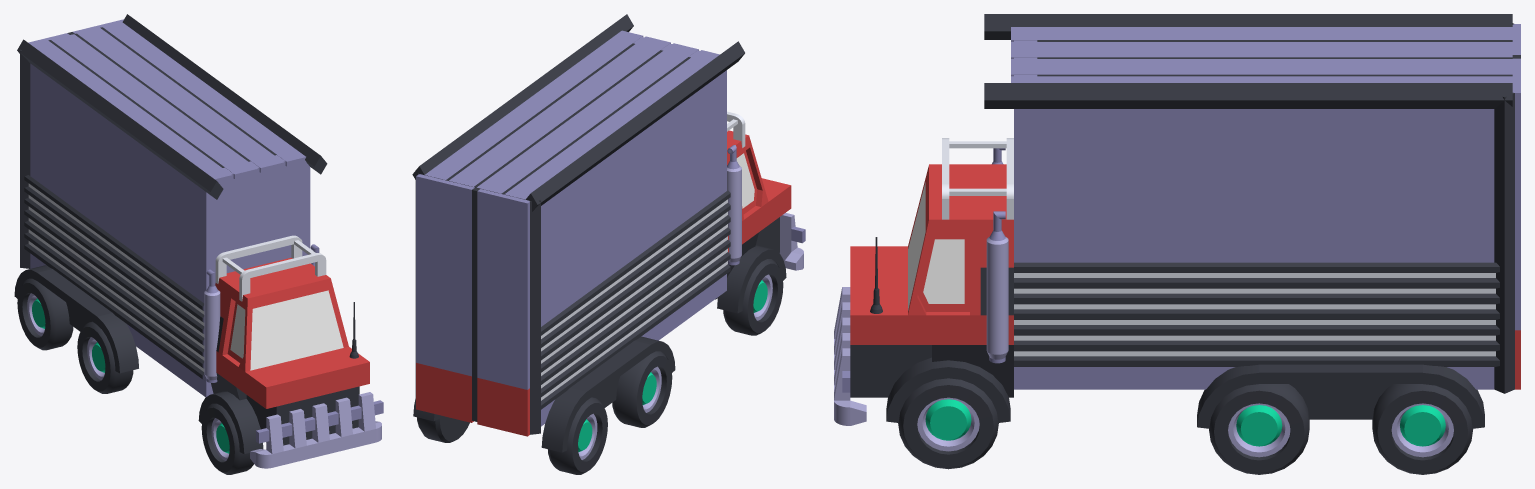
Rendered from big_car.fbx.
3 renders of one model, left to right at view 1: azimuth 30°, elevation 25°; view 2: azimuth 150°, elevation 25°; view 3: azimuth 270°, elevation 25°, orthographic. The views are drawn at different scales.
Parts seen in each view (by area): view 1: mergedBlocks; view 2: mergedBlocks; view 3: mergedBlocks.
Boxes of the visible parts, x1,y1,x2,y2 form: mergedBlocks: (14, 14, 383, 474); mergedBlocks: (412, 14, 805, 474); mergedBlocks: (834, 14, 1520, 474).
Bounding box in the file's own units: 14 × 25.76 × 42.
